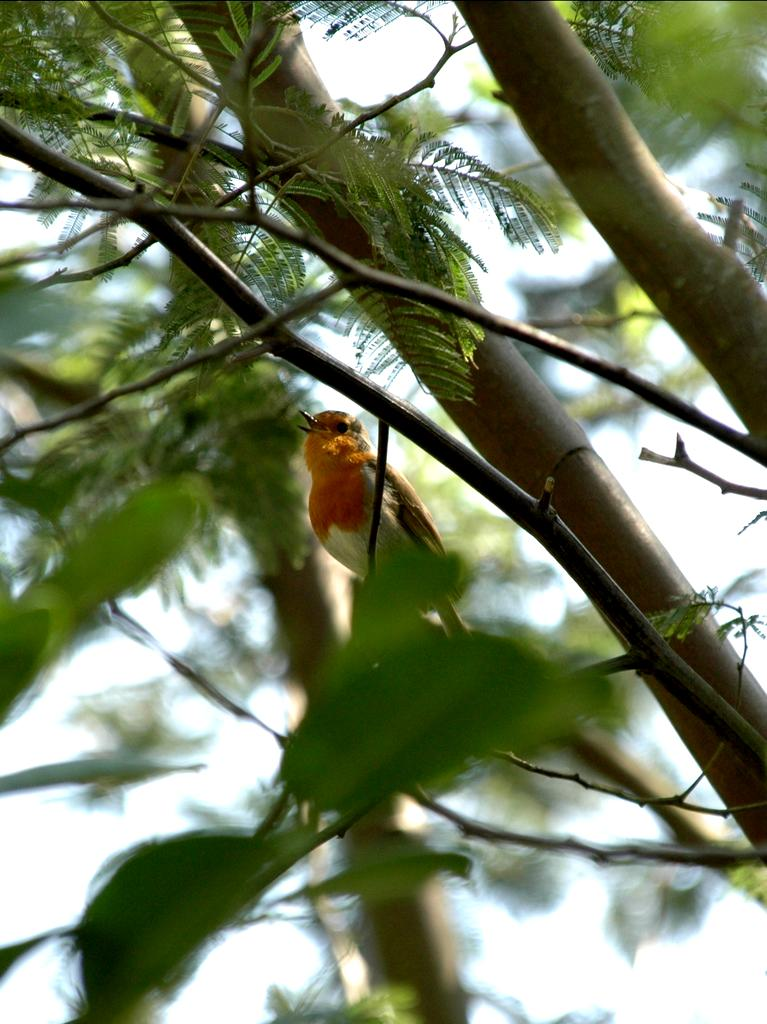ErithacusRubecula: (294, 409, 447, 587)
